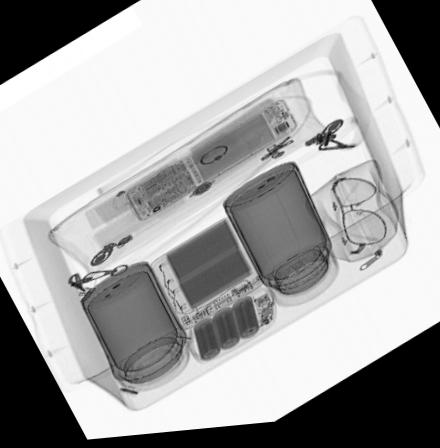Powerbank: (147, 217, 265, 334), (193, 285, 279, 374)
